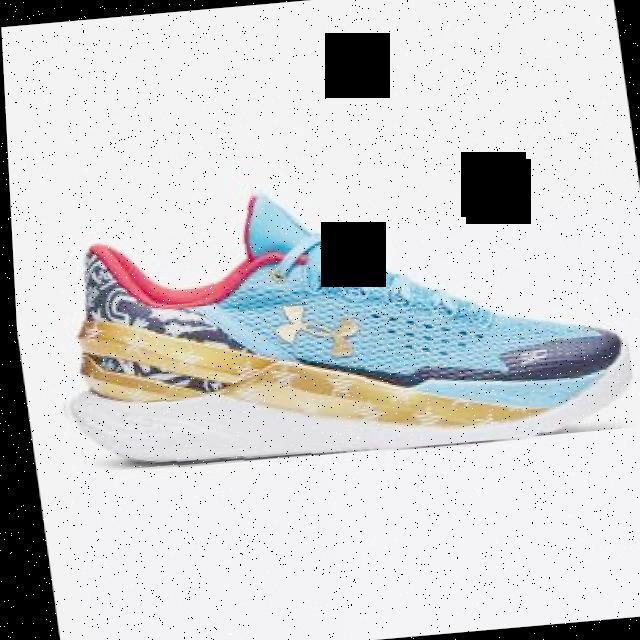shoe: (26, 158, 636, 476)
